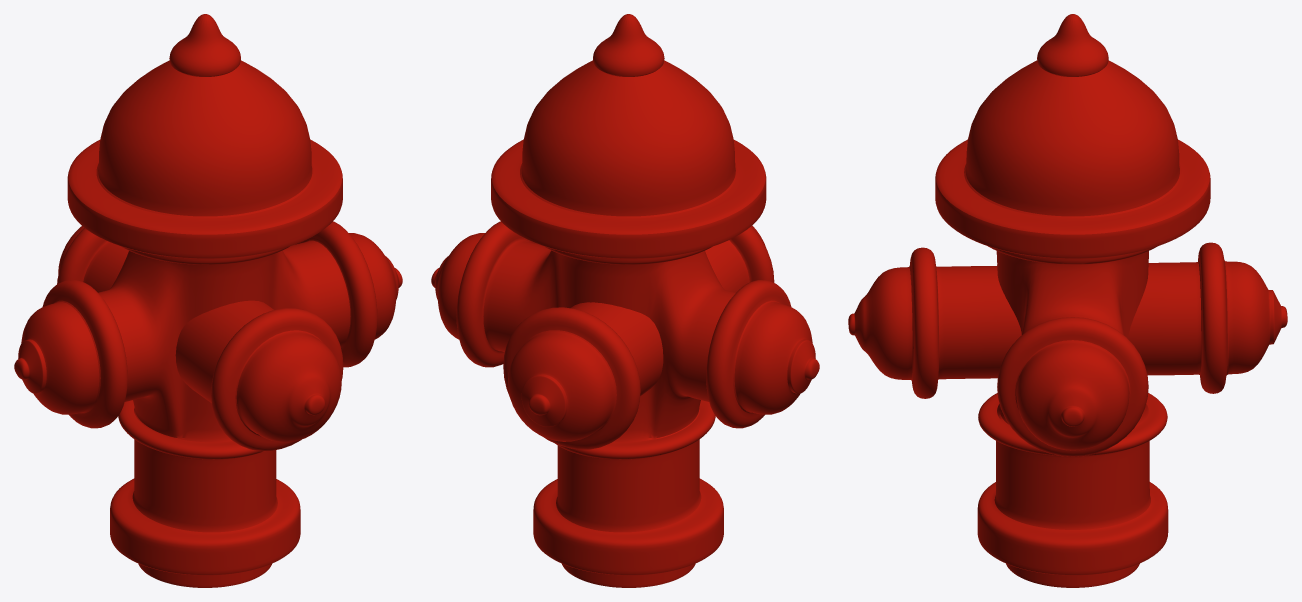
Rendered from Hidrante.fbx.
3 renders of one model, left to right at view 1: azimuth 30°, elevation 25°; view 2: azimuth 150°, elevation 25°; view 3: azimuth 270°, elevation 25°, orthographic.
Parts seen in each view (by area): view 1: Circle.004; view 2: Circle.004; view 3: Circle.004.
Boxes of the visible parts, left/top/right/bottom form: Circle.004: left=14, top=14, right=402, bottom=587; Circle.004: left=431, top=14, right=819, bottom=587; Circle.004: left=848, top=14, right=1287, bottom=587.
Bounding box in the file's own units: 405 × 555 × 405.
